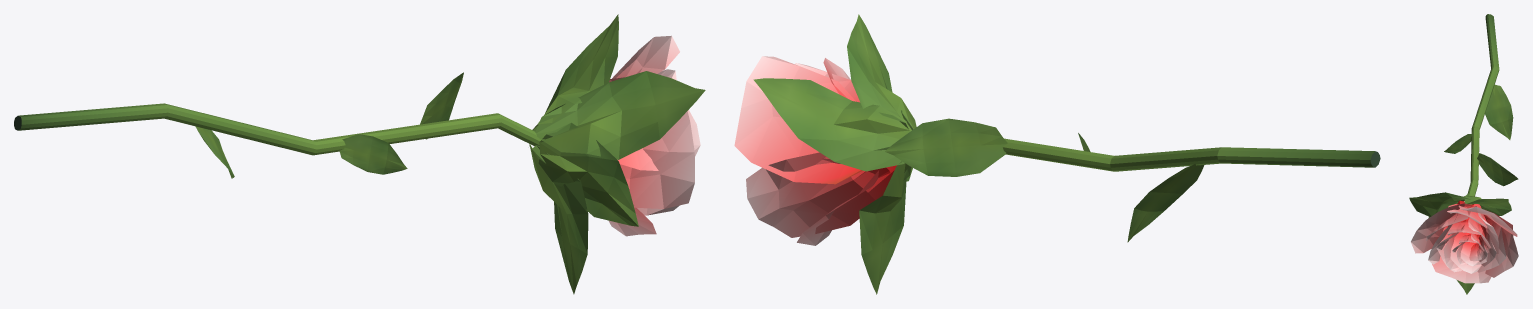
Rendered from PINK ROSERIGHT..fbx.
3 renders of one model, left to right at view 1: azimuth 30°, elevation 25°; view 2: azimuth 150°, elevation 25°; view 3: azimuth 270°, elevation 25°, orthographic. The views are drawn at different scales.
Parts seen in each view (by area): view 1: PINK_ROSERIGHT_; view 2: PINK_ROSERIGHT_; view 3: PINK_ROSERIGHT_.
Part boxes in pixels (x1,y1,x2,y2): PINK_ROSERIGHT_: [14, 14, 705, 294]; PINK_ROSERIGHT_: [734, 14, 1380, 294]; PINK_ROSERIGHT_: [1409, 14, 1518, 294].
Size of the model in its own units: 29.53 by 12.84 by 8.57.
